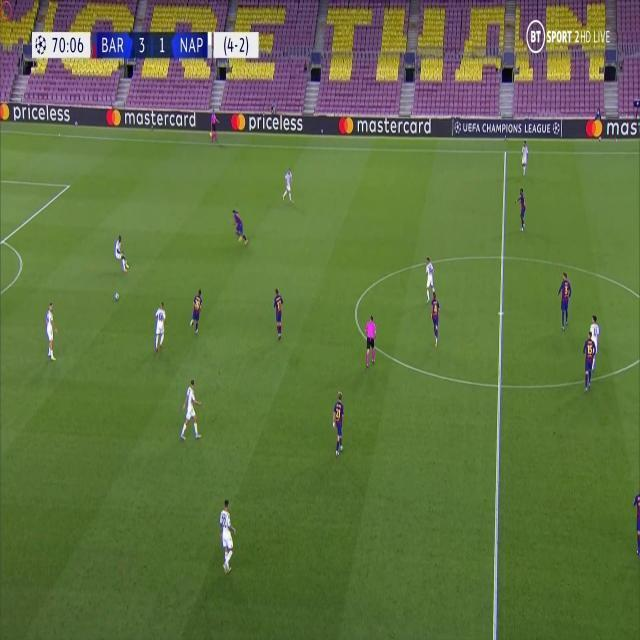ball: (114, 292, 120, 302)
player: (217, 495, 239, 578), (180, 379, 203, 442), (44, 300, 60, 364), (331, 391, 347, 455), (558, 272, 575, 332), (582, 331, 597, 393), (187, 289, 205, 337), (271, 286, 286, 342), (227, 210, 249, 248), (153, 299, 168, 353), (588, 316, 602, 372), (429, 293, 442, 348), (114, 232, 131, 273), (513, 187, 527, 235), (631, 489, 640, 555), (426, 254, 437, 304), (282, 167, 295, 206), (520, 137, 529, 176)
referee: (365, 314, 378, 367), (209, 108, 220, 144)
